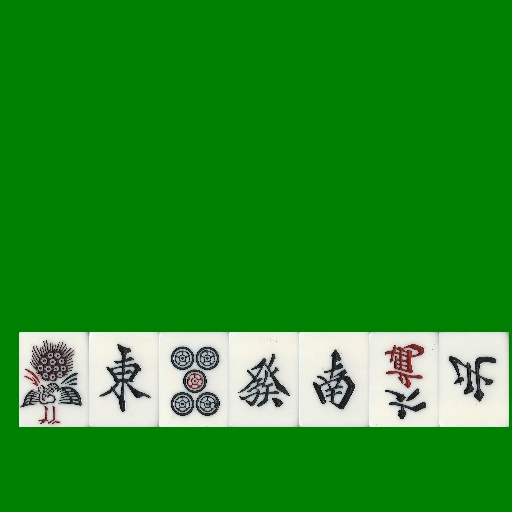1s: (19, 332, 89, 427)
5p: (159, 332, 229, 427)
6m: (369, 332, 439, 427)
east: (89, 332, 159, 427)
hatsu: (229, 332, 299, 427)
north: (439, 332, 509, 427)
south: (299, 332, 369, 427)
